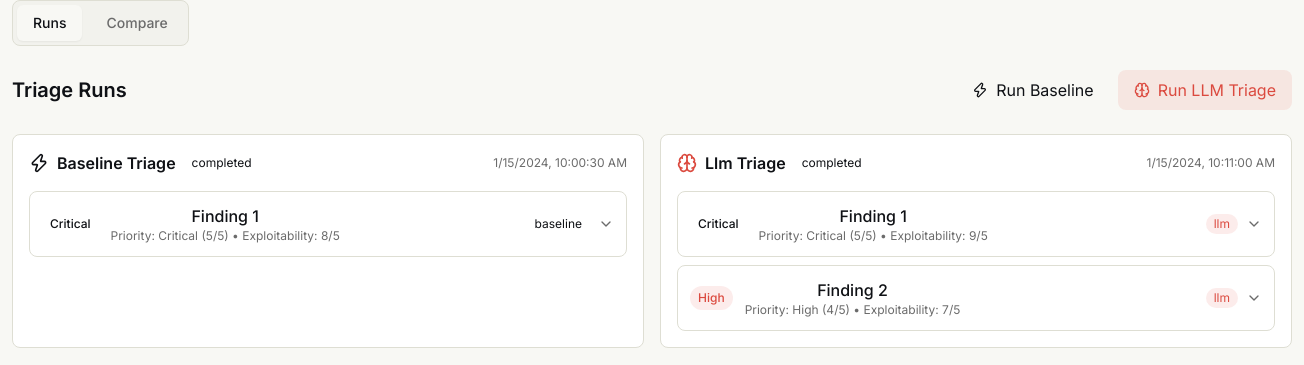
Test: TriageView › switches to Compare tab
Expected: the button "Run Baseline" is shown, [956,70,1110,110]
Step 1. Click the button "Compare" → (137, 23), box [90,5,184,41]
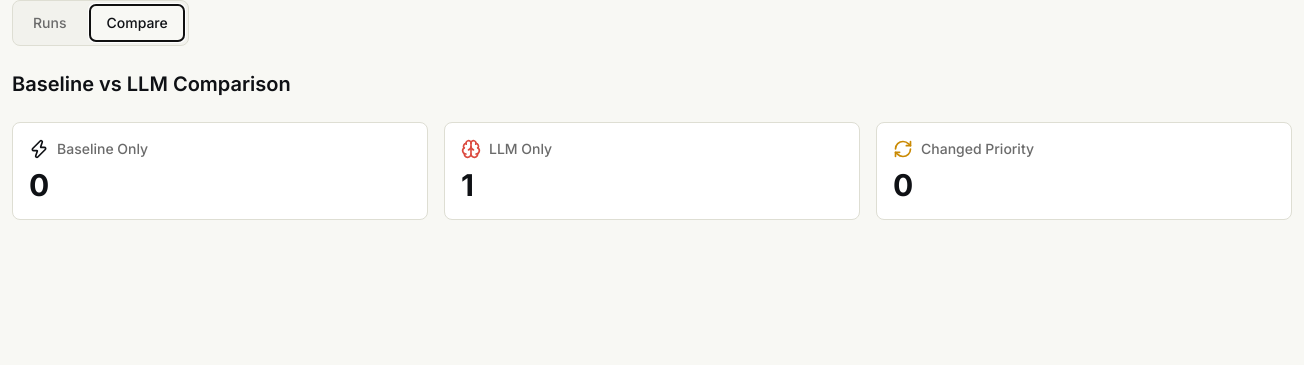
Expected: the heading "Baseline vs LLM Comparison" is shown, [12,72,291,96]
Expected: the text "Baseline Only" is shown, [57,139,148,159]
Expected: the text "LLM Only" is shown, [489,139,552,159]
